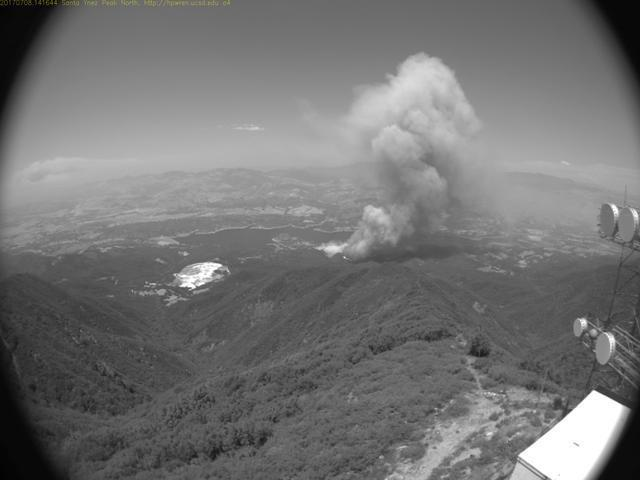Smoke: (312, 46, 490, 265)
